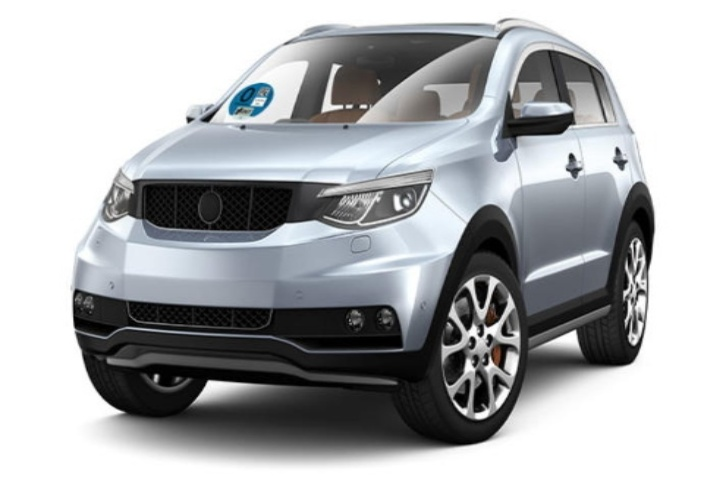camper: (76, 15, 662, 450)
